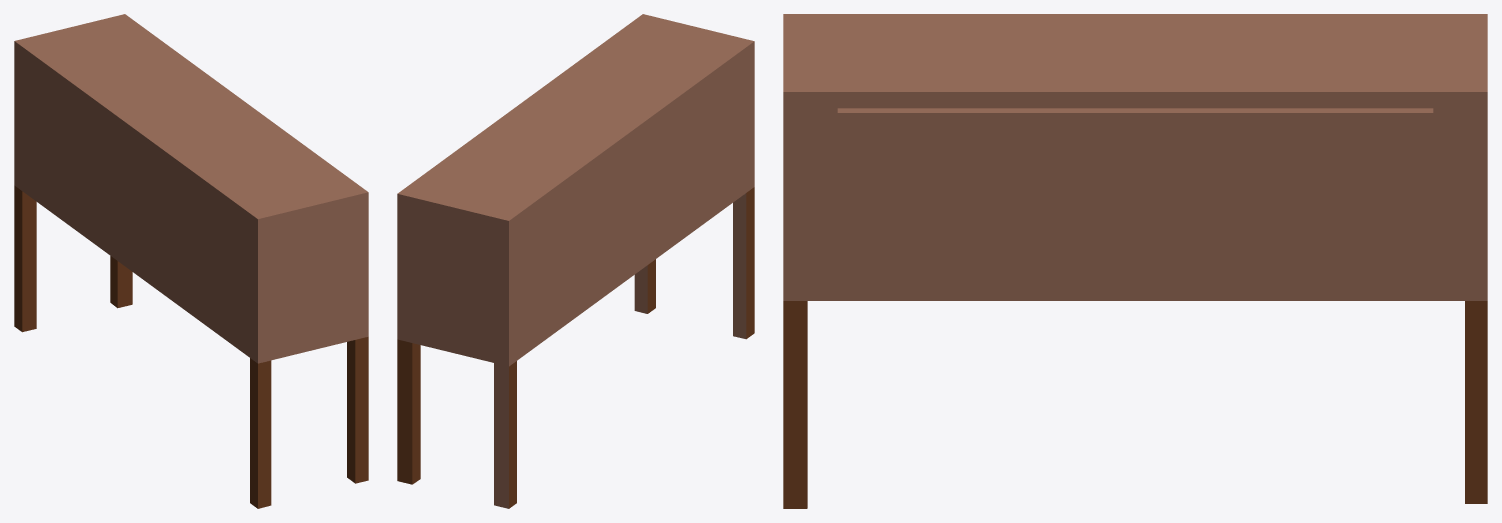
Rendered from Dressoir.fbx.
3 renders of one model, left to right at view 1: azimuth 30°, elevation 25°; view 2: azimuth 150°, elevation 25°; view 3: azimuth 270°, elevation 25°, orthographic. The views are drawn at different scales.
Visible parts, largest first — view 1: Cube; view 2: Cube; view 3: Cube.
Part boxes in pixels (x1,y1,x2,y2): Cube: [14, 14, 368, 508]; Cube: [397, 14, 754, 508]; Cube: [783, 14, 1487, 508].
Size of the model in its own units: 137 by 323 by 492.
